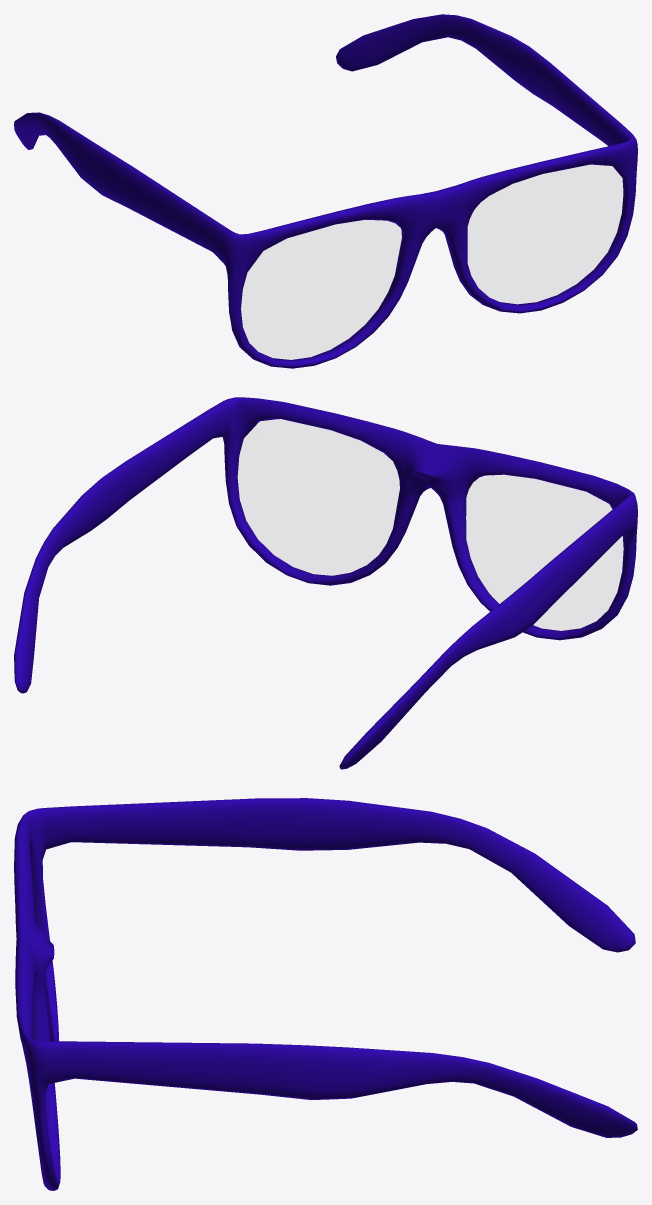
Rendered from sunglasses.gltf.
3 renders of one model, top to bottom at view 1: azimuth 30°, elevation 25°; view 2: azimuth 150°, elevation 25°; view 3: azimuth 270°, elevation 25°, orthographic. The views are drawn at different scales.
Parts seen in each view (by area): view 1: geometryElement5; view 2: geometryElement5; view 3: geometryElement5.
Boxes of the visible parts, left/top/right/bottom form: geometryElement5: left=14, top=14, right=637, bottom=368; geometryElement5: left=14, top=397, right=637, bottom=769; geometryElement5: left=14, top=798, right=637, bottom=1190.
Bounding box in the file's own units: 0.1473 × 0.0521 × 0.1538.
